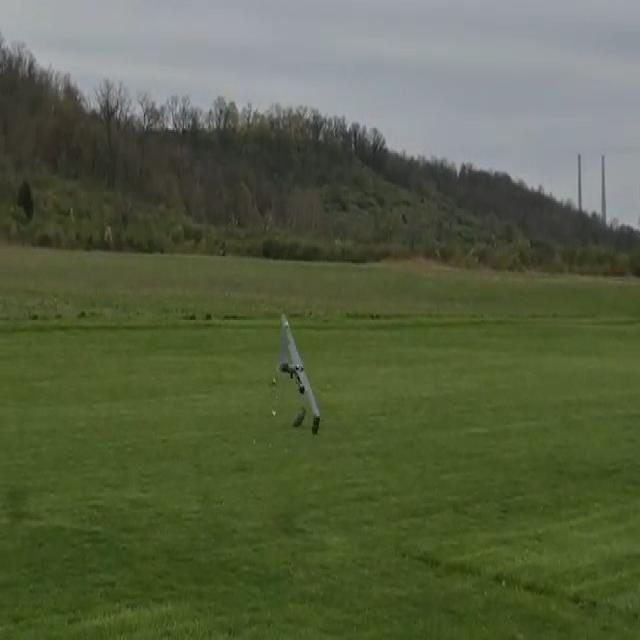iha: (279, 314, 319, 432)
